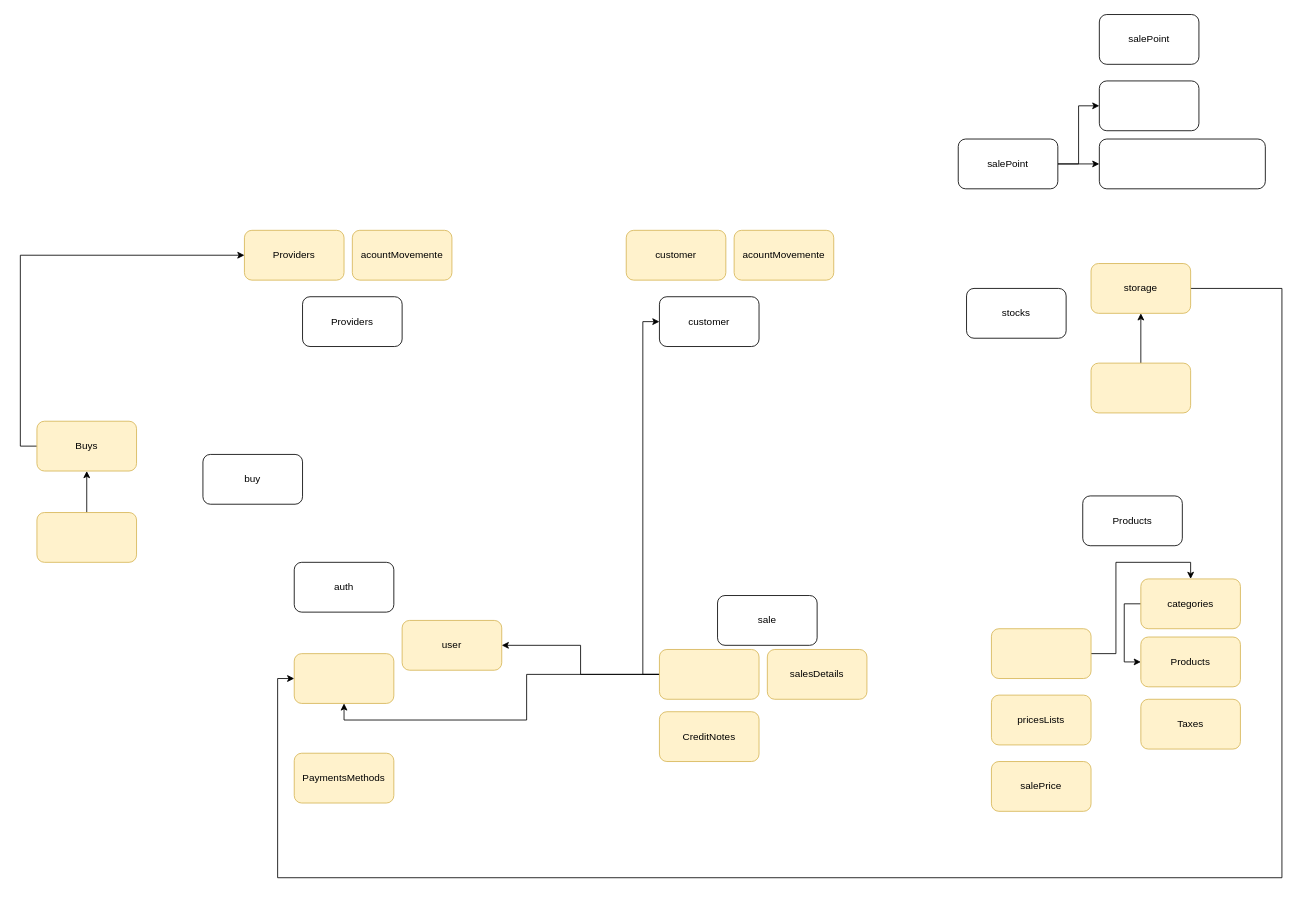
The diagram is 1303 pixels wide and 899 high, and some of its shapes have lost their labels. The shapes that lost their labels are listed below. From the top down, each one's centre as x and y in pixels, then its label:
At point 1149,105: "cashRegisters".
At point 1182,163: "cashRegistersMovements".
At point 1140,387: "productCard".
At point 86,537: "BuyDetail".
At point 1041,653: "subcategories".
At point 343,678: "commerce".
At point 709,674: "sales".
